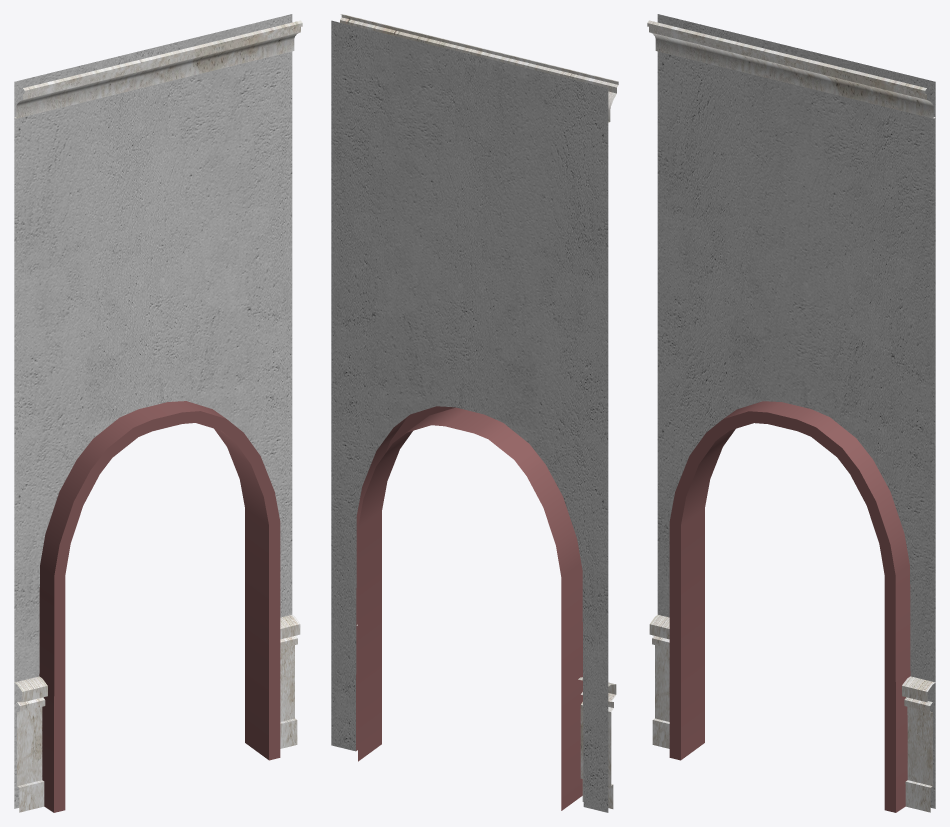
The model's file is WC_Doorway.fbx.
3 views of the same model, side by side, from view 1: azimuth 30°, elevation 25°; view 2: azimuth 150°, elevation 25°; view 3: azimuth 330°, elevation 25° (orthographic).
Visible parts, largest first — view 1: WC_Doorway; view 2: WC_Doorway; view 3: WC_Doorway.
Part boxes in pixels (bbox=[...]): WC_Doorway: bbox=[14, 14, 302, 812]; WC_Doorway: bbox=[331, 14, 618, 812]; WC_Doorway: bbox=[647, 14, 935, 812].
Size of the model in its own units: 400 by 1000 by 60.
